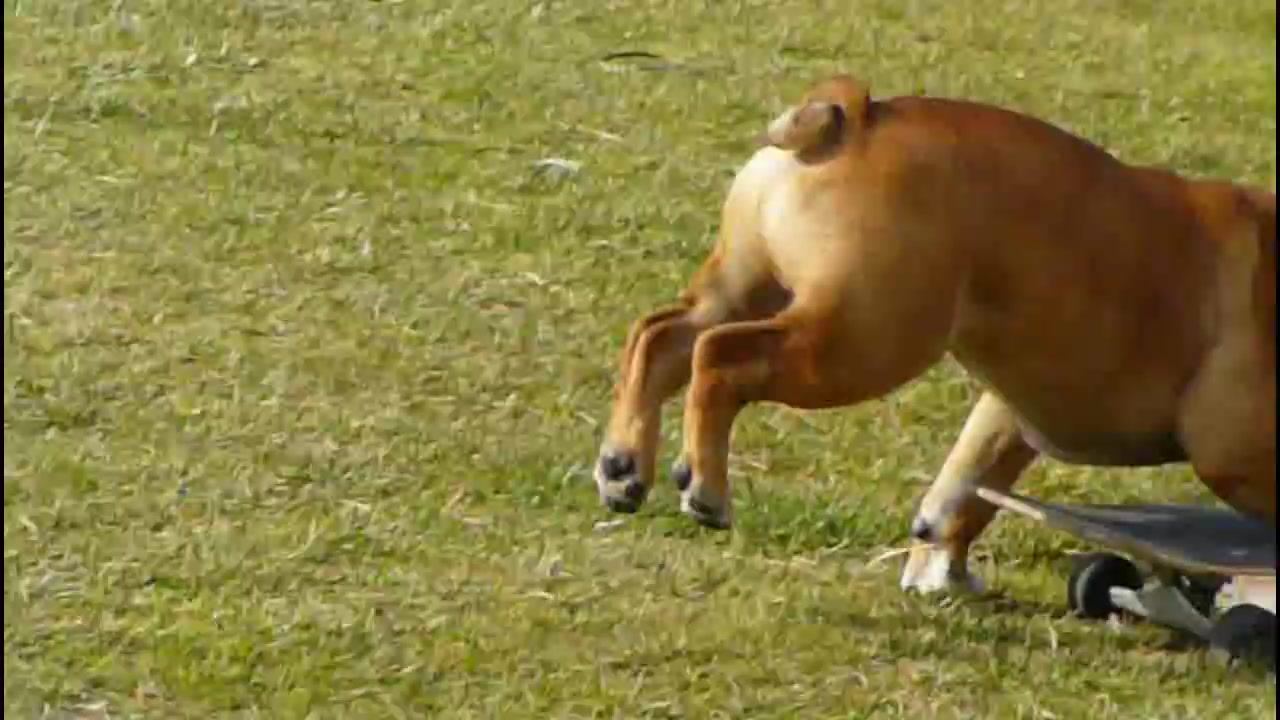dog: (595, 87, 1279, 602)
